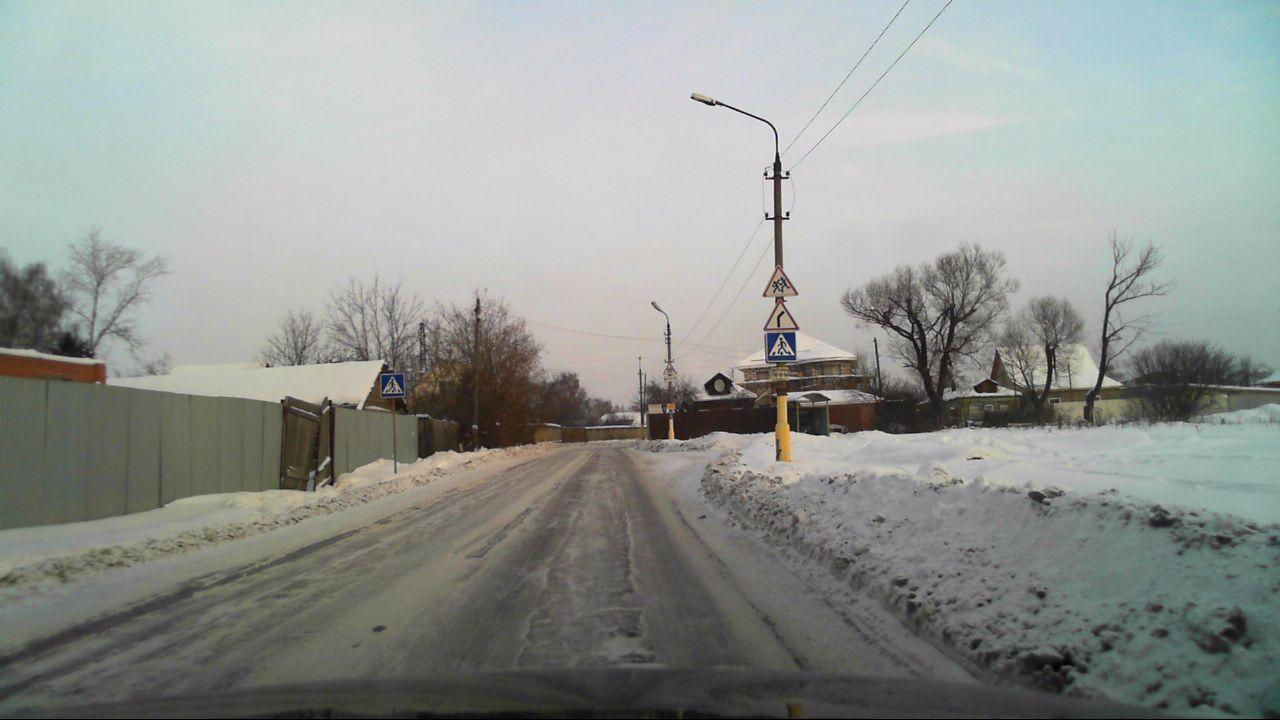1_11_1: (761, 298, 800, 331)
1_23: (760, 266, 798, 298), (663, 362, 679, 376)
5_19_1: (764, 332, 797, 363)
5_19_2: (379, 373, 406, 397)
8_2_1: (664, 375, 678, 382)
